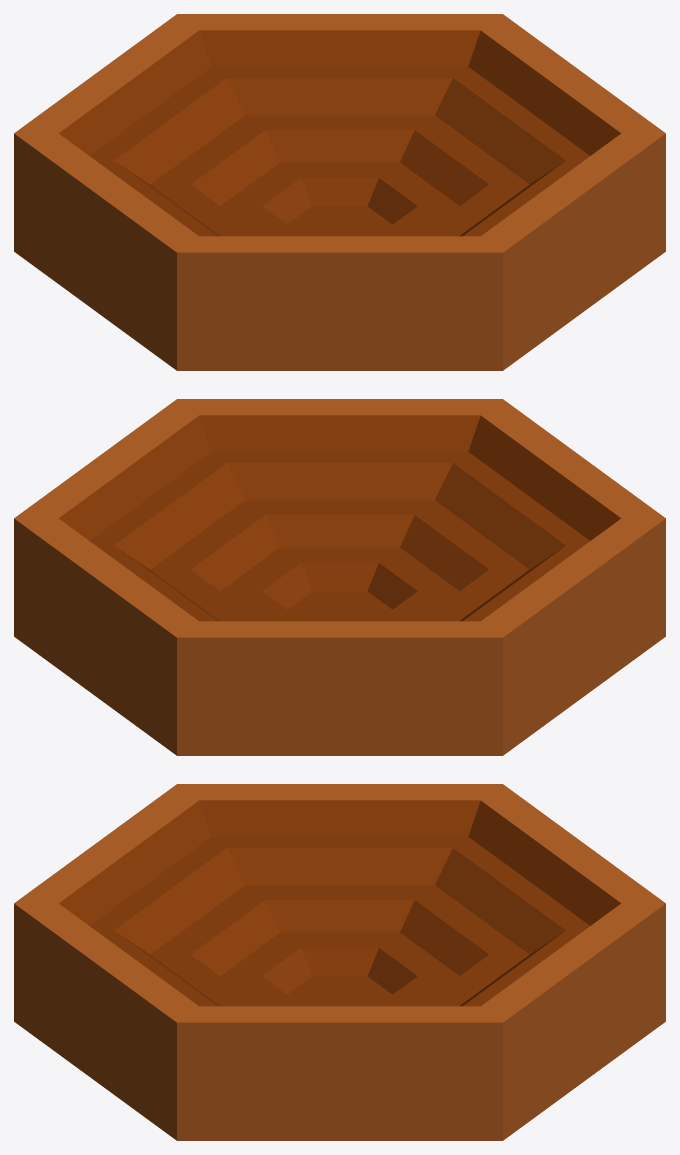
Rendered from TileHex_13.fbx.
3 views of the same model, one above another, from view 1: azimuth 30°, elevation 25°; view 2: azimuth 150°, elevation 25°; view 3: azimuth 270°, elevation 25° (orthographic).
Parts seen in each view (by area): view 1: TileHex_13; view 2: TileHex_13; view 3: TileHex_13.
Boxes of the visible parts, x1,y1,x2,y2 form: TileHex_13: [14, 14, 665, 370]; TileHex_13: [14, 399, 665, 755]; TileHex_13: [14, 784, 665, 1140].
Bounding box in the file's own units: 433 × 100 × 500.
